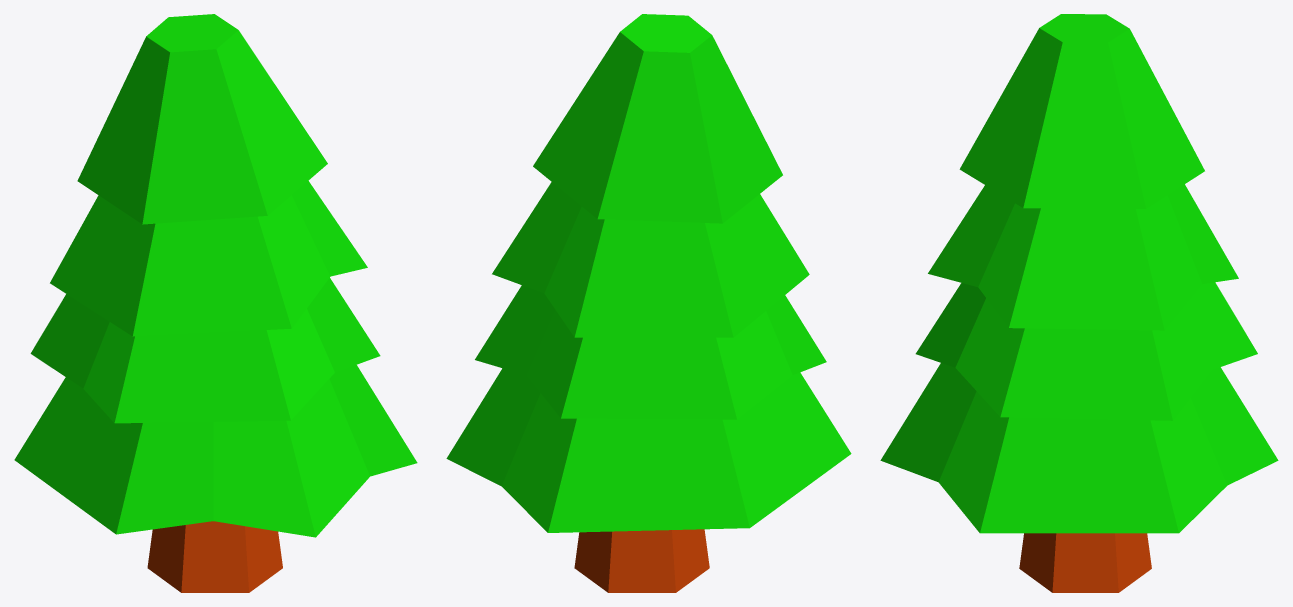
Rendered from Choinka5pozv1.fbx.
3 views of the same model, side by side, from view 1: azimuth 30°, elevation 25°; view 2: azimuth 150°, elevation 25°; view 3: azimuth 270°, elevation 25° (orthographic). The views are drawn at different scales.
Visible parts, largest first — view 1: Walec.001, Walec.005, Walec.003, Walec.002, Walec; view 2: Walec.001, Walec.005, Walec.003, Walec.002, Walec; view 3: Walec.001, Walec.005, Walec.003, Walec.002, Walec.
Part boxes in pixels (x1,y1,x2,y2): Walec.001: [14, 365, 417, 537]; Walec.005: [77, 14, 327, 224]; Walec.003: [50, 181, 367, 336]; Walec.002: [30, 277, 380, 423]; Walec: [147, 521, 282, 592]; Walec.001: [446, 368, 851, 532]; Walec.005: [533, 14, 782, 223]; Walec.003: [492, 182, 809, 337]; Walec.002: [475, 285, 826, 419]; Walec: [574, 529, 709, 592]; Walec.001: [880, 363, 1278, 533]; Walec.005: [959, 14, 1204, 208]; Walec.003: [928, 184, 1238, 330]; Walec.002: [915, 282, 1257, 420]; Walec: [1019, 533, 1151, 592].
Bounding box in the file's own units: 324 × 555 × 377.
